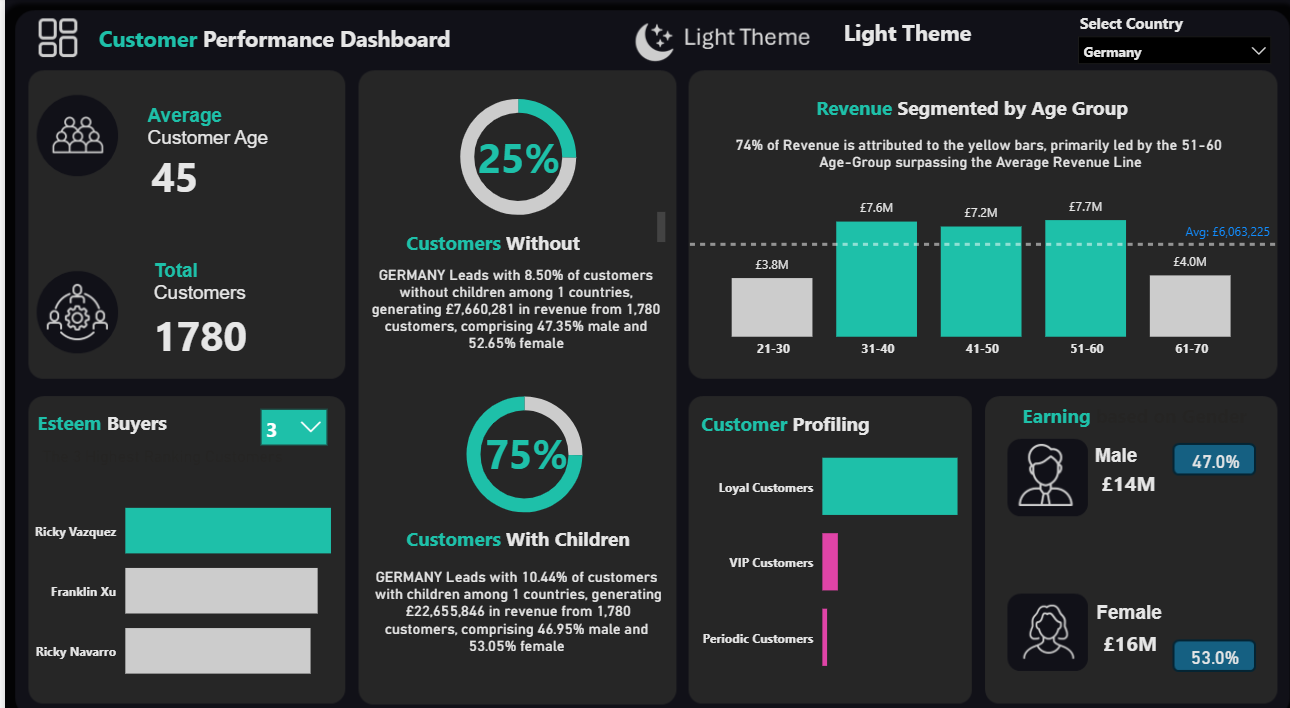

The page's visual inventory and layout, read from the dashboard file:
{"tool":"powerbi","page":{"name":"Dark Mode","canvas":[1280,720],"ordinal":1},"visuals":[{"type":"clusteredColumnChart","fields":{"Category":["DimCustomer.Age Category"],"Y":["All Measures.Total Revenue"]},"box":[667.2,184.6,585.1,179.8],"z":0},{"type":"card","fields":{"Values":["Customer Measures.Avg Caption"]},"box":[678,118.2,558.6,73.6],"z":1000},{"type":"textbox","box":[791.4,73.6,339,55.5],"z":2000},{"type":"donutChart","fields":{"Y":["Customer Measures.% CWOC","Customer Measures.% CWC"]},"box":[408.6,81.4,190.7,152.3],"z":3000},{"type":"donutChart","fields":{"Y":["Customer Measures.% CWOC","Customer Measures.% CWC"]},"box":[414.3,373.1,190.7,152.3],"z":4000},{"type":"card","fields":{"Values":["Customer Measures.% CWOC"]},"box":[456.6,118.5,96.1,76.8],"z":5000},{"type":"card","fields":{"Values":["Customer Measures.% CWC"]},"box":[463.3,409,96.5,77.2],"z":6000},{"type":"textbox","box":[388.7,206.3,264.2,54.3],"z":7000},{"type":"textbox","box":[388.7,497.1,246.1,55.5],"z":8000},{"type":"card","fields":{"Values":["Customer Measures.Customers with children"]},"box":[341.4,253.4,325.7,106.2],"z":9000},{"type":"card","fields":{"Values":["Customer Measures.Customers with children"]},"box":[347.5,550.1,313.7,106.2],"z":10000},{"type":"clusteredBarChart","fields":{"Category":["DimCustomer.Customer Type"],"Y":["All Measures.Total Revenue"]},"box":[678,410.2,279.9,284.7],"z":11000},{"type":"clusteredBarChart","fields":{"Category":["DimCustomer.Full Name"],"Y":["Customer Measures.Dynamic Customers"]},"box":[22.9,464.5,302.8,230.4],"z":12000},{"type":"slicer","fields":{"Values":["Dynamic Customers.Dynamic Customers"]},"box":[240.1,393.3,85.7,50.7],"z":13000},{"type":"card","fields":{"Values":["Customer Measures.% Male Revenue"]},"box":[1155,434.8,68.8,43.4],"z":14000},{"type":"card","fields":{"Values":["Customer Measures.% Female Revenue"]},"box":[1149,630.2,78.4,37.4],"z":15000},{"type":"card","fields":{"Values":["Customer Measures.Average Customer Age"]},"box":[124.3,144.8,85.7,61.5],"z":16000},{"type":"card","fields":{"Values":["Customer Measures.#Customers"]},"box":[132.7,298,118.2,66.4],"z":17000},{"type":"textbox","box":[134.9,100.9,141.2,63.9],"z":18000},{"type":"textbox","box":[141.2,253.4,132.7,63.9],"z":19000},{"type":"textbox","box":[1064.8,434.3,67.6,41],"z":20000},{"type":"textbox","box":[1066.5,589,91.7,37.4],"z":21000},{"type":"textbox","box":[26.5,382.4,148.4,53.1],"z":22000},{"type":"card","fields":{"Values":["Customer Measures.Title Top Customers"]},"box":[20.5,425.9,267.8,53.1],"z":23000},{"type":"textbox","box":[994.1,375.2,243,53.1],"z":24000},{"type":"card","fields":{"Values":["Customer Measures.Male Revenue"]},"box":[1058,460.9,90.5,35],"z":25000},{"type":"card","fields":{"Values":["Customer Measures.Female Revenue"]},"box":[1062.9,621.3,84,31.4],"z":26000},{"type":"textbox","box":[86.9,3.6,384.9,62.7],"z":27000},{"type":"slicer","fields":{"Values":["DimGeography.Country"]},"box":[1042.4,27.7,209.9,47.1],"z":28000},{"type":"textbox","box":[1050.8,10.9,121.9,35],"z":29000},{"type":"textbox","box":[678,383.6,242.5,53.1],"z":30000},{"type":"textbox","box":[818,14.5,164.1,44.6],"z":31000}]}

Visuals, with their boxes in screenshot pixels (x1, y1, x2, y2), scaled from the page's 1280x720 canvas onto the 1290x708 screenshot:
clusteredColumnChart - DimCustomer.Age Category x All Measures.Total Revenue: left=672, top=182, right=1262, bottom=358
card - Customer Measures.Avg Caption: left=683, top=116, right=1246, bottom=189
textbox: left=798, top=72, right=1139, bottom=127
donutChart - Customer Measures.% CWOC x Customer Measures.% CWC: left=412, top=80, right=604, bottom=230
donutChart - Customer Measures.% CWOC x Customer Measures.% CWC: left=418, top=367, right=610, bottom=517
card - Customer Measures.% CWOC: left=460, top=117, right=557, bottom=192
card - Customer Measures.% CWC: left=467, top=402, right=564, bottom=478
textbox: left=392, top=203, right=658, bottom=256
textbox: left=392, top=489, right=640, bottom=543
card - Customer Measures.Customers with children: left=344, top=249, right=672, bottom=354
card - Customer Measures.Customers with children: left=350, top=541, right=666, bottom=645
clusteredBarChart - DimCustomer.Customer Type x All Measures.Total Revenue: left=683, top=403, right=965, bottom=683
clusteredBarChart - DimCustomer.Full Name x Customer Measures.Dynamic Customers: left=23, top=457, right=328, bottom=683
slicer - Dynamic Customers.Dynamic Customers: left=242, top=387, right=328, bottom=437
card - Customer Measures.% Male Revenue: left=1164, top=428, right=1233, bottom=470
card - Customer Measures.% Female Revenue: left=1158, top=620, right=1237, bottom=656
card - Customer Measures.Average Customer Age: left=125, top=142, right=212, bottom=203
card - Customer Measures.#Customers: left=134, top=293, right=253, bottom=358
textbox: left=136, top=99, right=278, bottom=162
textbox: left=142, top=249, right=276, bottom=312
textbox: left=1073, top=427, right=1141, bottom=467
textbox: left=1075, top=579, right=1167, bottom=616
textbox: left=27, top=376, right=176, bottom=428
card - Customer Measures.Title Top Customers: left=21, top=419, right=291, bottom=471
textbox: left=1002, top=369, right=1247, bottom=421
card - Customer Measures.Male Revenue: left=1066, top=453, right=1157, bottom=488
card - Customer Measures.Female Revenue: left=1071, top=611, right=1156, bottom=642
textbox: left=88, top=4, right=475, bottom=65
slicer - DimGeography.Country: left=1051, top=27, right=1262, bottom=74
textbox: left=1059, top=11, right=1182, bottom=45
textbox: left=683, top=377, right=928, bottom=429
textbox: left=824, top=14, right=990, bottom=58
